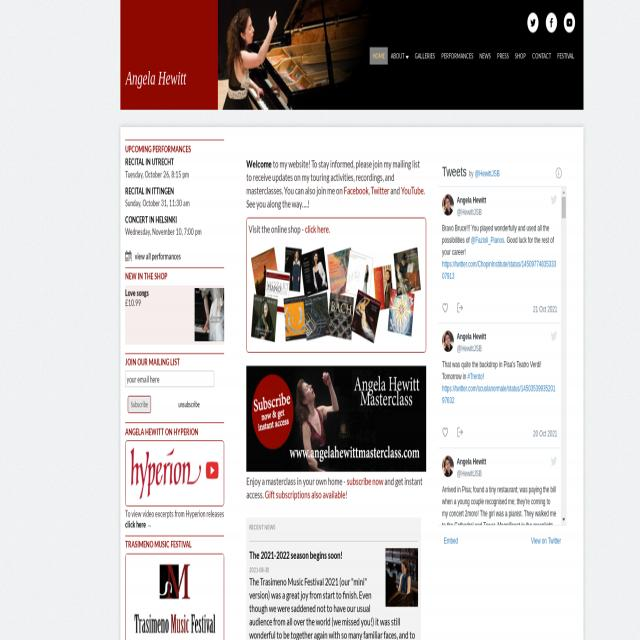button: (246, 366, 426, 472), (248, 243, 424, 345), (126, 553, 224, 640), (125, 441, 225, 506), (386, 548, 418, 607), (194, 288, 224, 342), (438, 47, 476, 65), (412, 47, 438, 65), (530, 47, 554, 65), (388, 47, 412, 65), (128, 396, 150, 414), (555, 47, 577, 65), (441, 454, 455, 478), (441, 192, 454, 217), (476, 46, 494, 64), (494, 47, 512, 65), (512, 47, 530, 65), (370, 47, 388, 65), (441, 330, 455, 353), (527, 12, 539, 36), (545, 12, 557, 36), (564, 12, 576, 36), (454, 423, 466, 442), (440, 423, 451, 443), (548, 452, 559, 472), (454, 299, 465, 318), (549, 190, 558, 208), (441, 299, 450, 317), (549, 328, 558, 344), (561, 196, 566, 218), (556, 167, 562, 179), (561, 187, 567, 197), (562, 515, 566, 526)
field: (125, 370, 215, 388)
